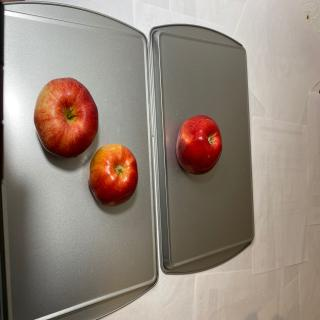Apple: (34, 77, 98, 158), (88, 143, 138, 207), (175, 115, 222, 175)
